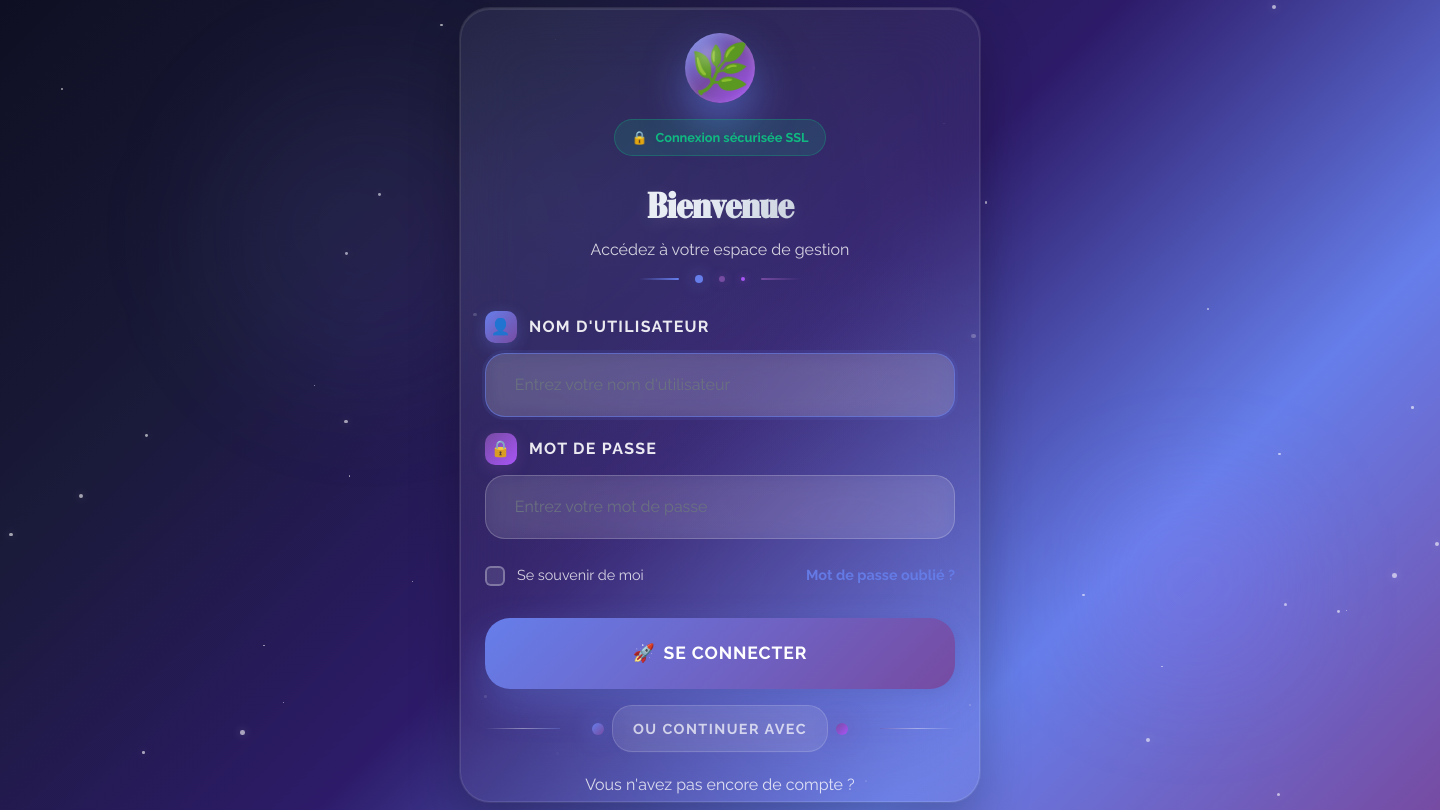
Login page › displays error message on login failure
Type "wronguser" into the field labelled "👤 Nom d'utilisateur" at (720, 385), box [485,353,955,417]
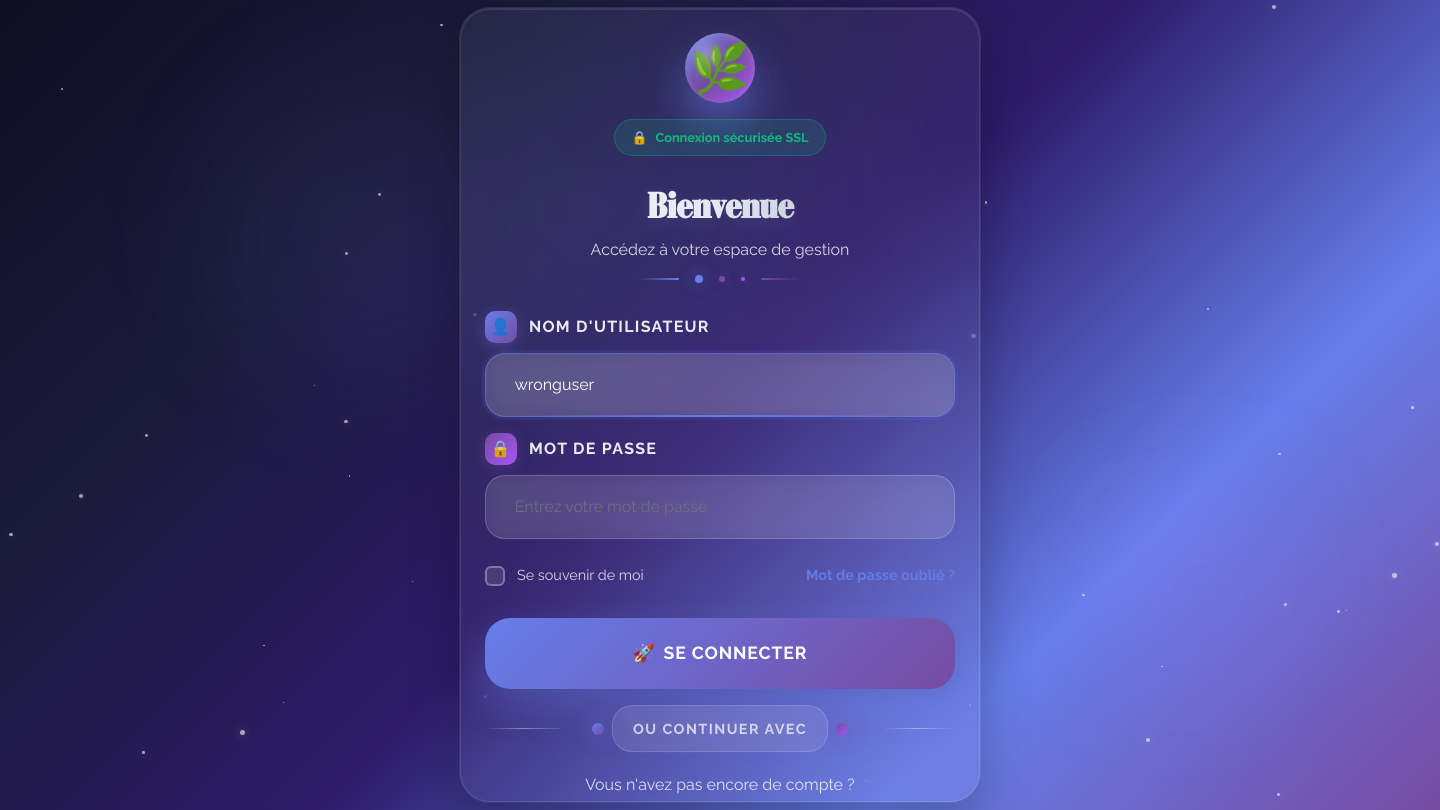
Type "wrongpass" into the password field labelled "🔒 Mot de passe" at (720, 507), box [485,475,955,539]
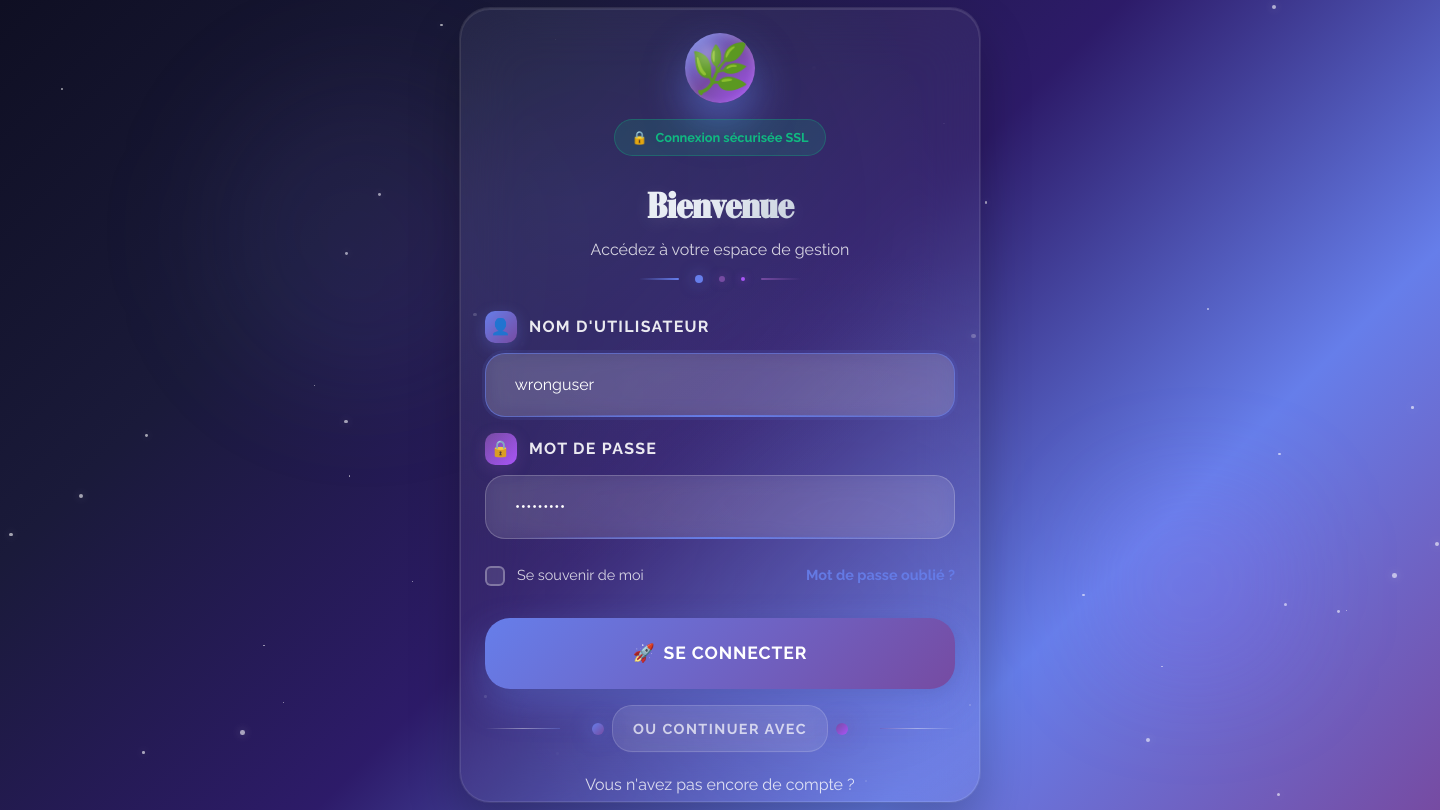
Click the button "🚀 Se connecter" at (720, 653), box [485,618,955,689]
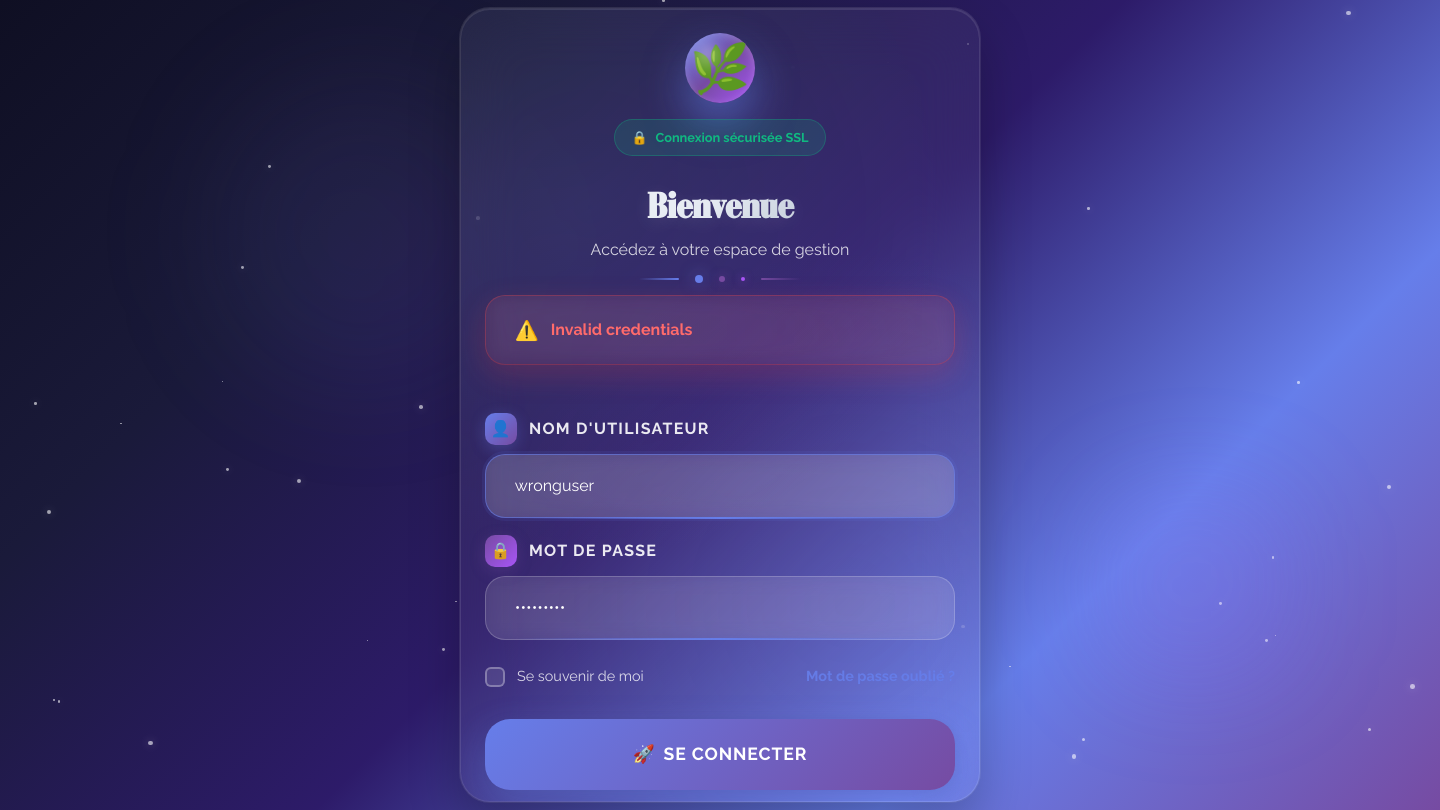
Check: the text "Invalid credentials" is shown, box [551,318,693,342]
